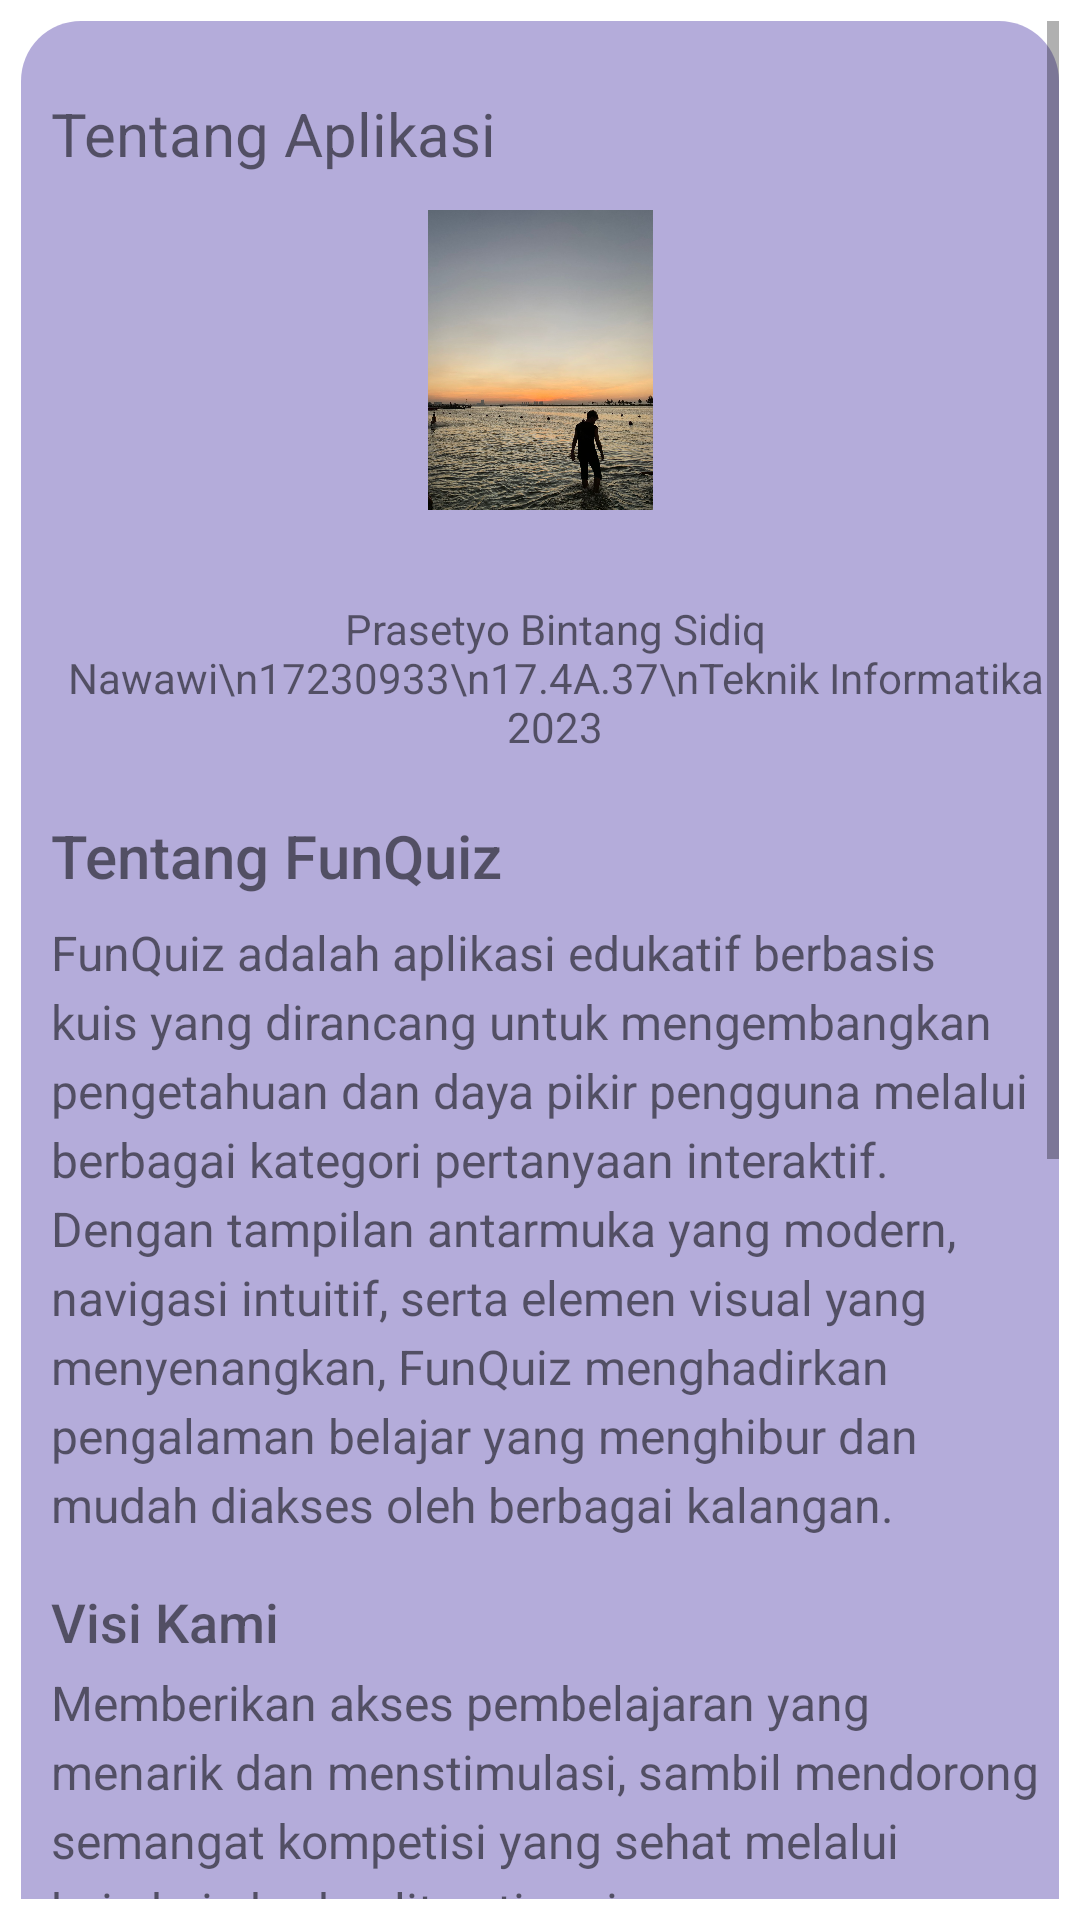

Icons on this 1080w x 1920h Android screen, each with its box as detection(x1, y1, x2, y2):
fotosaya: detection(428, 210, 653, 510)
